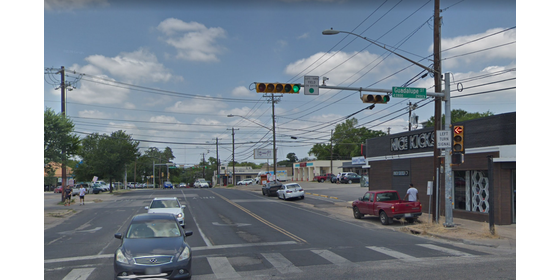left turn signal sign: (435, 128, 453, 148)
left turn yield on green sign: (301, 72, 322, 96)
street name sign: (391, 84, 428, 101)
